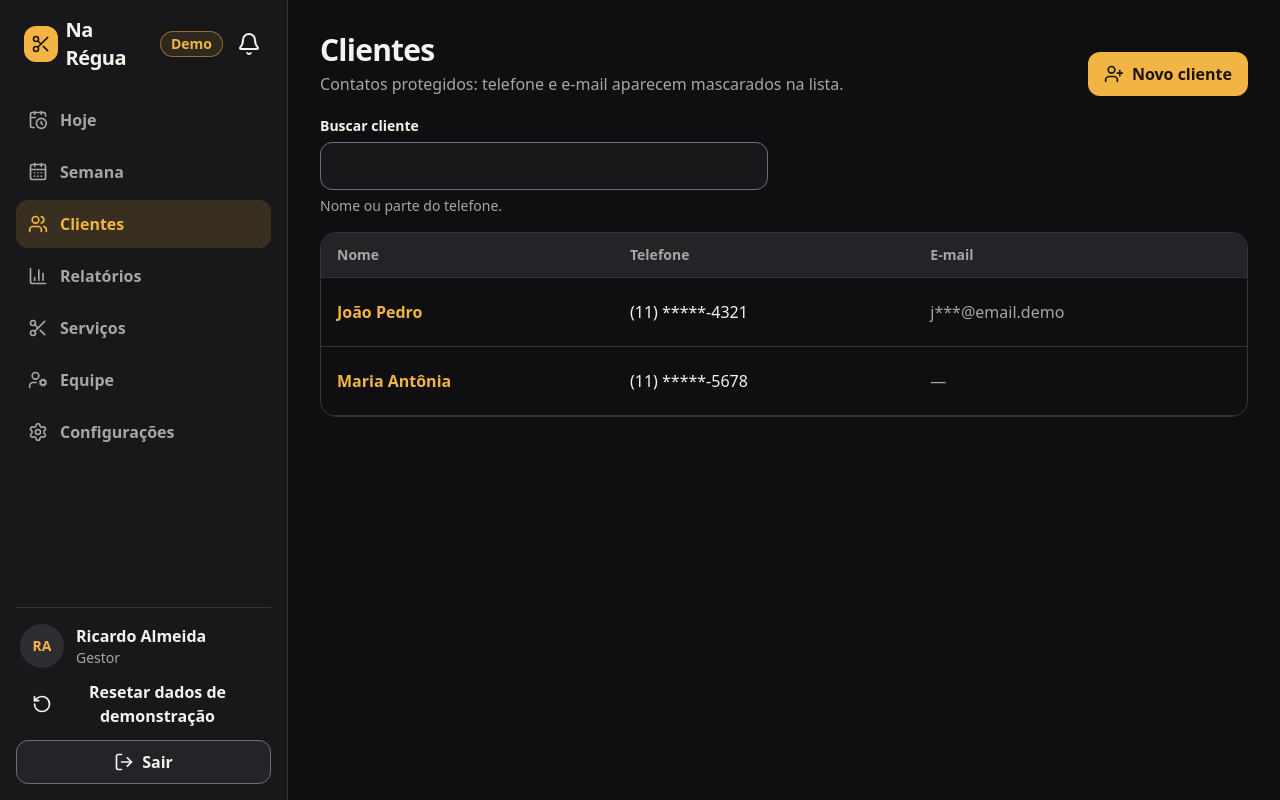
Scenario: ClientsPage › opens the full record with numbers and history
The width and height of the screenshot is (1280, 800).
Click the link "João Pedro" at (380, 312), box [337,301,422,323]
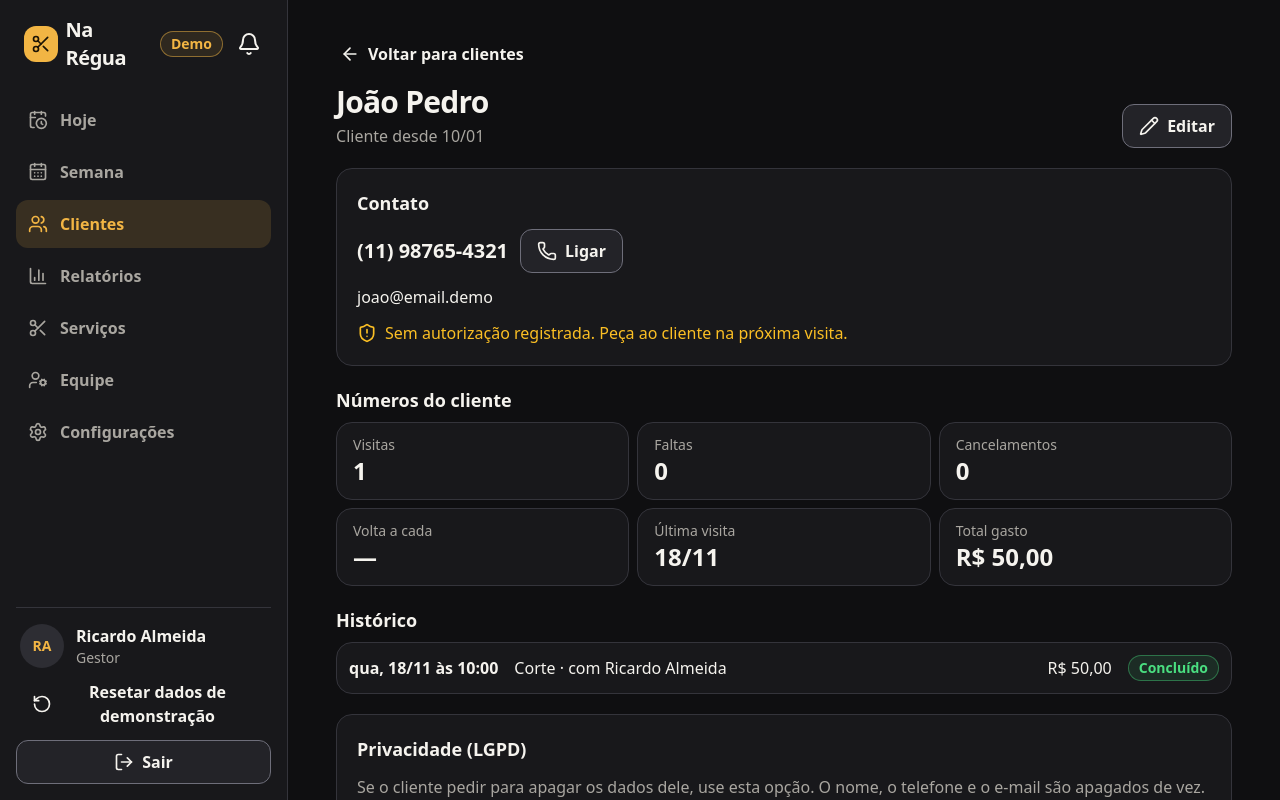
Now the heading "João Pedro" is shown, box [336,84,489,120]
Now the text "(11) 98765-4321" is shown, box [357,237,508,265]
Now the text "Sem autorização registrada" is shown, box [385,322,848,344]
